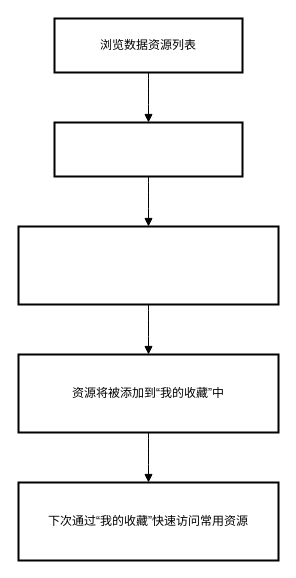
Image size: 296x578. Some labels were removed from this diagram. The shapes that lost their labels are listed below. From the top down, each one's centre as x and y in pixels, then its label:
At (148,149): "找到常用数据资源".
At (148,265): "点击资源名称后的“收藏”按钮".
